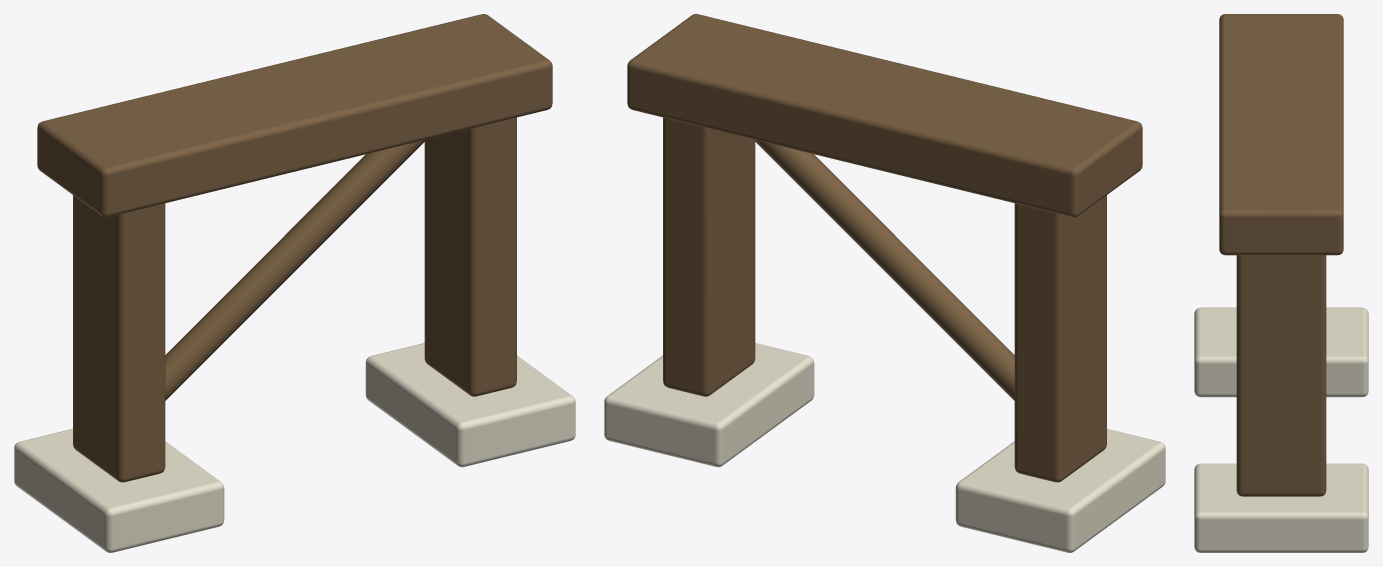
File: water-clock-garden-and-hydraulic-puzzles-raised-channe-66d993e1__31955.glb
3 views of the same model, side by side, from view 1: azimuth 30°, elevation 25°; view 2: azimuth 150°, elevation 25°; view 3: azimuth 270°, elevation 25° (orthographic). The views are drawn at different scales.
Parts seen in each view (by area): view 1: raised-channel-trestle; view 2: raised-channel-trestle; view 3: raised-channel-trestle.
Part boxes in pixels (x1=…): raised-channel-trestle: x1=14, y1=14, x2=575, y2=552; raised-channel-trestle: x1=604, y1=14, x2=1165, y2=552; raised-channel-trestle: x1=1194, y1=14, x2=1368, y2=552.
Bounding box in the file's own units: 0.99 × 0.75 × 0.35.
